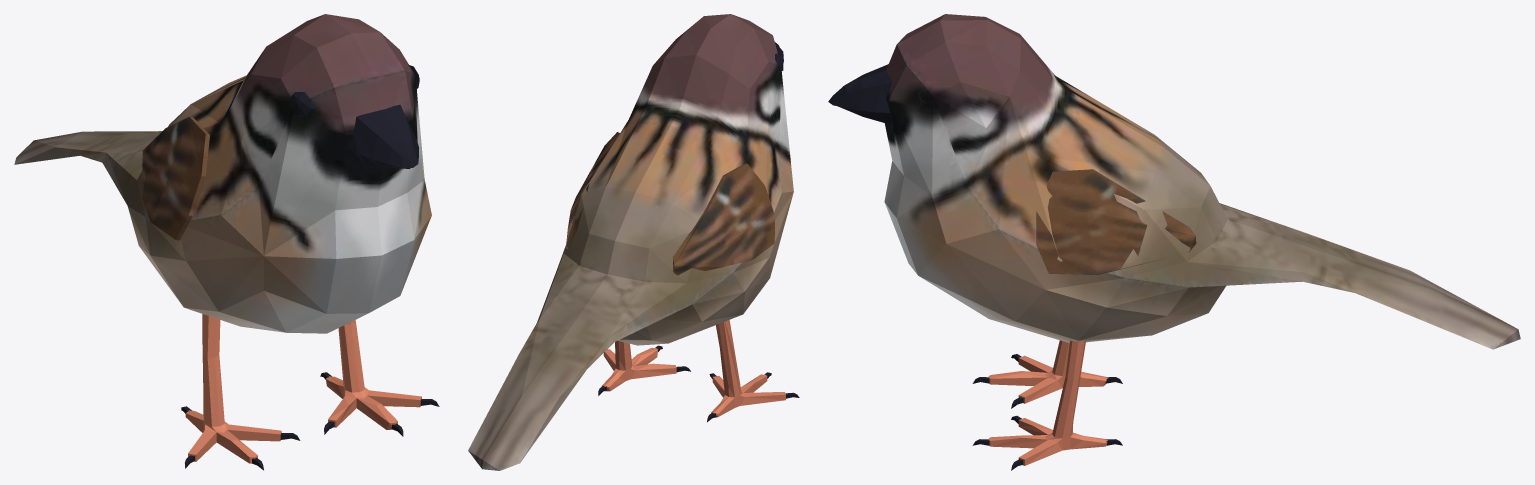
Rendered from animals-sparrow-190.glb.
The picture shows the model from 3 angles, left to right: view 1: azimuth 30°, elevation 25°; view 2: azimuth 150°, elevation 25°; view 3: azimuth 270°, elevation 25°; orthographic projection. The views are drawn at different scales.
Parts seen in each view (by area): view 1: Node; view 2: Node; view 3: Node.
Boxes of the visible parts, x1=… form: Node: x1=14, y1=14, x2=439, y2=470; Node: x1=468, y1=14, x2=799, y2=470; Node: x1=828, y1=14, x2=1520, y2=470.
Size of the model in its own units: 2.15 by 3.51 by 5.58.
Materials: 4 (2 with a texture image).
